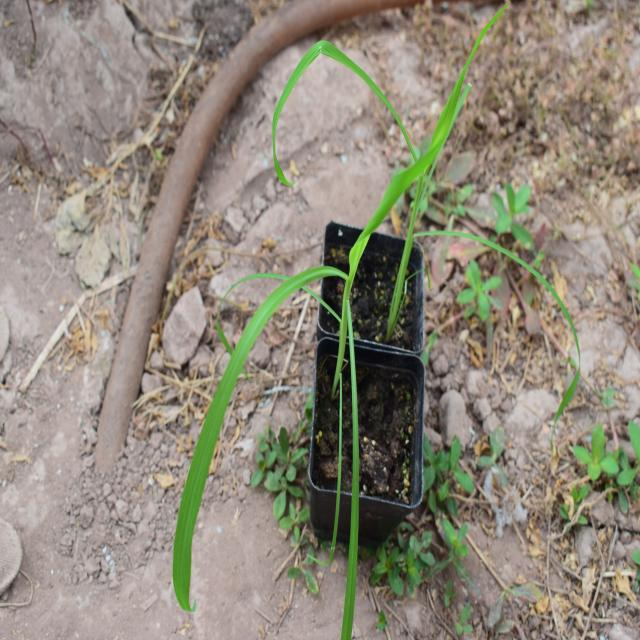barnyard_grass: (169, 22, 474, 571)
